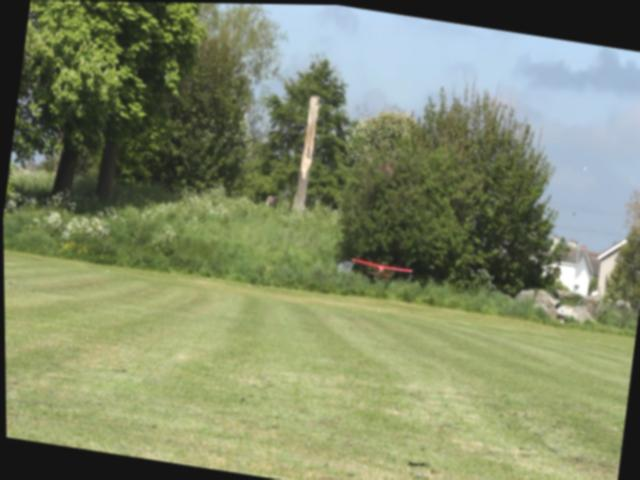plane: (348, 255, 412, 282)
